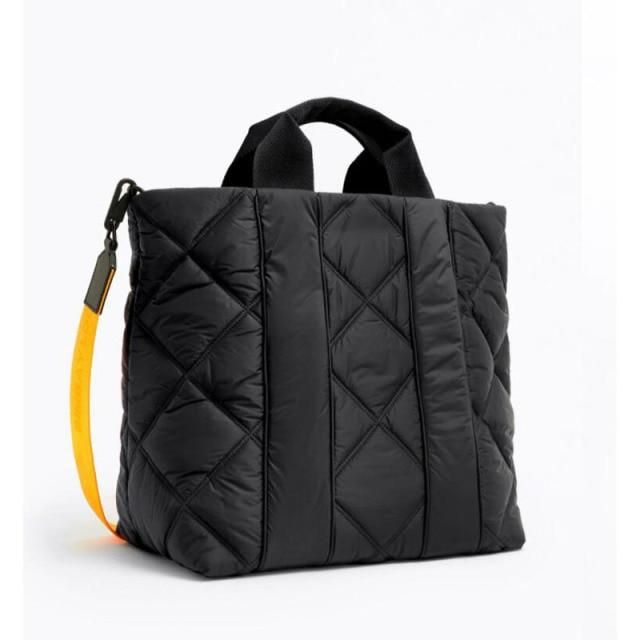nylon: (117, 189, 527, 578)
